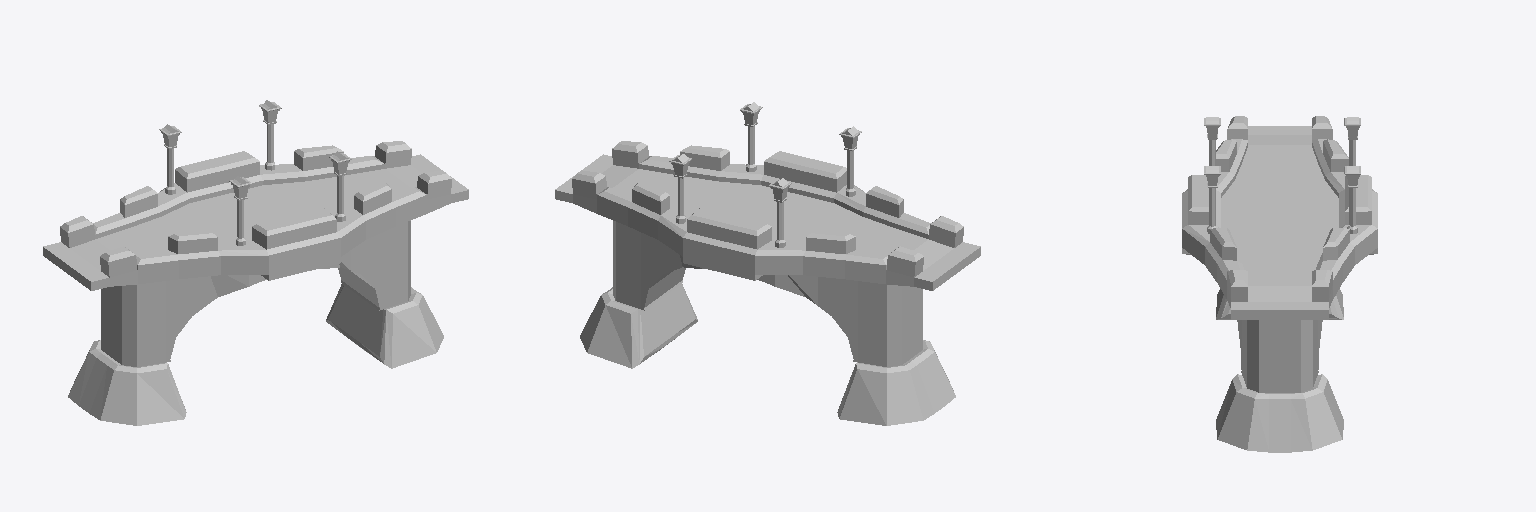
The model's file is bridge af.obj.
The picture shows the model from 3 angles: view 1: azimuth 30°, elevation 25°; view 2: azimuth 150°, elevation 25°; view 3: azimuth 270°, elevation 25°; orthographic projection.
Visible parts, largest first — view 1: pCube10_pCube10, pCube19_pCube19, pCube20_pCube20, pCube21_pCube21, pCube18_pCube18; view 2: pCube10_pCube10, pCube19_pCube19, pCube20_pCube20, pCube18_pCube18, pCube21_pCube21; view 3: pCube10_pCube10, pCube21_pCube21, pCube20_pCube20.
Boxes of the visible parts, <box> form: pCube10_pCube10: <box>43,141,468,425</box>; pCube19_pCube19: <box>159,124,181,194</box>; pCube20_pCube20: <box>329,151,351,221</box>; pCube21_pCube21: <box>259,100,281,170</box>; pCube18_pCube18: <box>229,176,251,245</box>; pCube10_pCube10: <box>555,141,980,425</box>; pCube19_pCube19: <box>769,178,791,247</box>; pCube20_pCube20: <box>740,102,762,171</box>; pCube18_pCube18: <box>839,126,861,196</box>; pCube21_pCube21: <box>669,154,691,223</box>; pCube10_pCube10: <box>1182,116,1377,452</box>; pCube21_pCube21: <box>1344,166,1360,233</box>; pCube20_pCube20: <box>1204,166,1220,233</box>.
Bounding box in the file's own units: 1273 × 739 × 570.